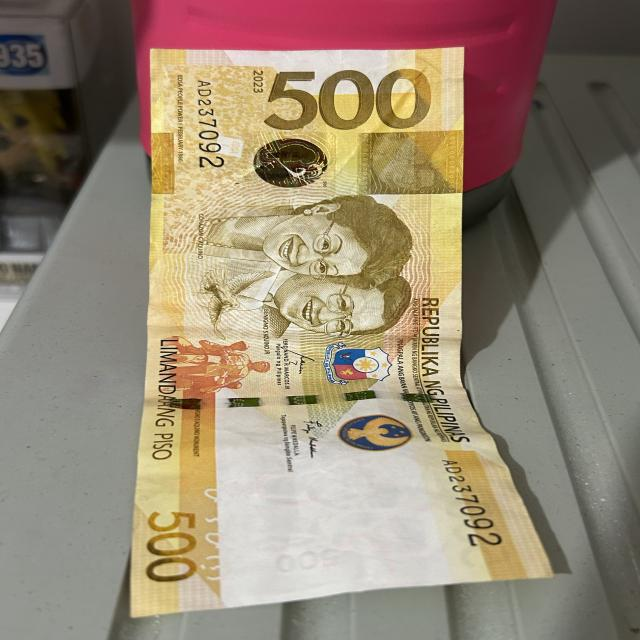concealed_value: (369, 128, 453, 196)
optically_variable_device: (255, 141, 329, 187)
security_thread: (165, 390, 439, 413)
see_through_mark: (188, 487, 238, 595)
serial_number: (435, 453, 506, 551), (187, 74, 239, 180)
value: (269, 67, 426, 130)
value_watermark: (268, 546, 340, 572)
watermark: (237, 450, 425, 583)
